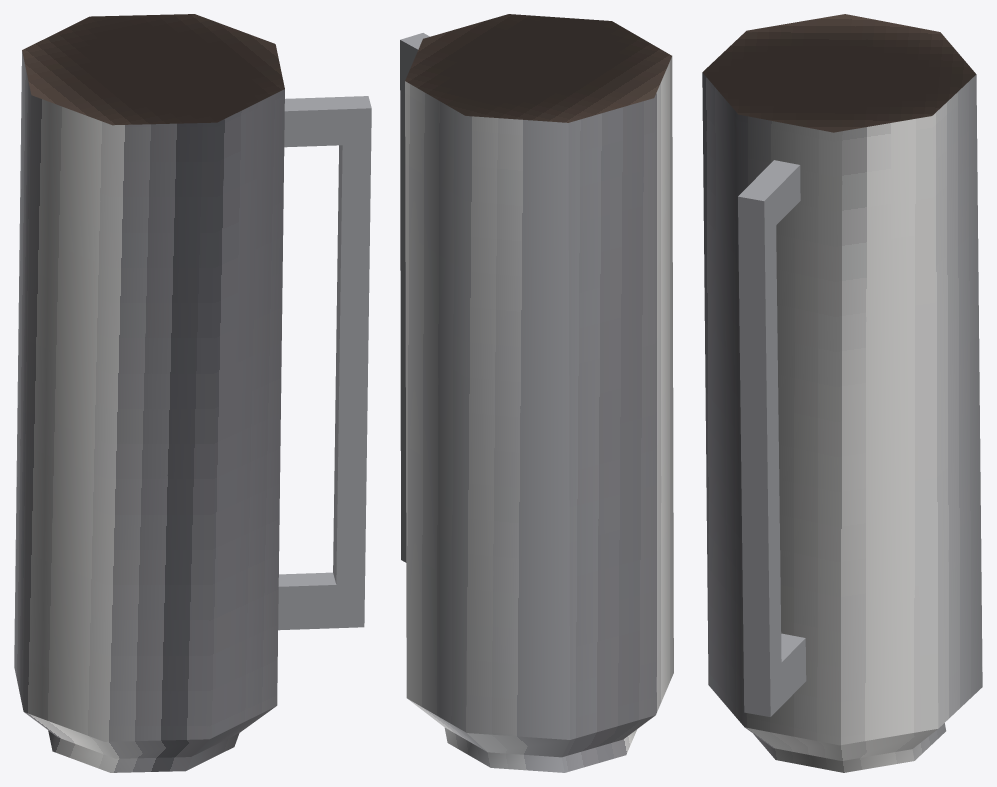
The model's file is H_CoffeeThermos.fbx.
3 views of the same model, side by side, from view 1: azimuth 30°, elevation 25°; view 2: azimuth 150°, elevation 25°; view 3: azimuth 270°, elevation 25° (orthographic).
Visible parts, largest first — view 1: CoffeeThermos; view 2: CoffeeThermos; view 3: CoffeeThermos.
Boxes of the visible parts, bbox=[...] form: CoffeeThermos: bbox=[14, 14, 371, 772]; CoffeeThermos: bbox=[400, 14, 673, 772]; CoffeeThermos: bbox=[702, 14, 982, 772].
Size of the model in its own units: 23.11 by 49.96 by 18.71.
